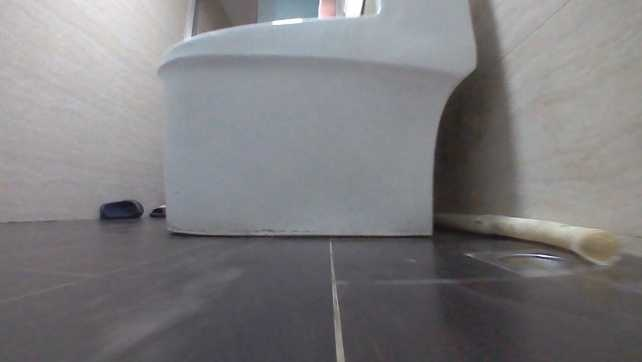toilet: (154, 2, 480, 239)
